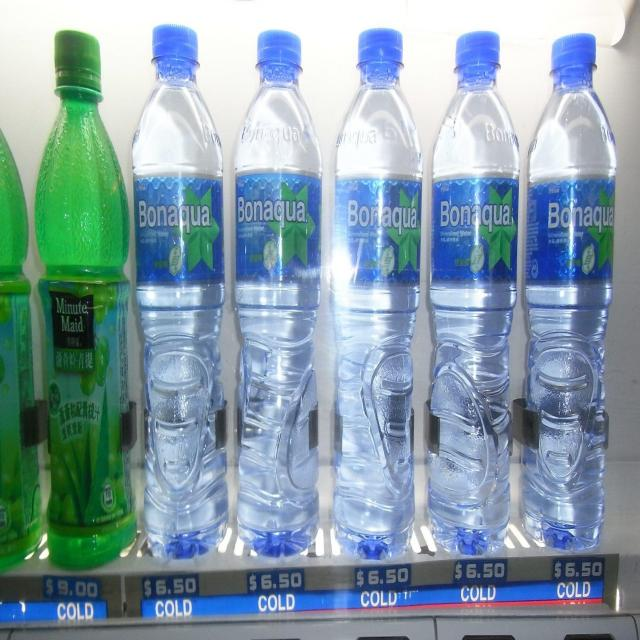plastic_bottle: (128, 28, 235, 570), (37, 27, 138, 576), (321, 19, 421, 552), (518, 27, 619, 540), (230, 28, 326, 564), (425, 18, 517, 552), (1, 69, 31, 579)
